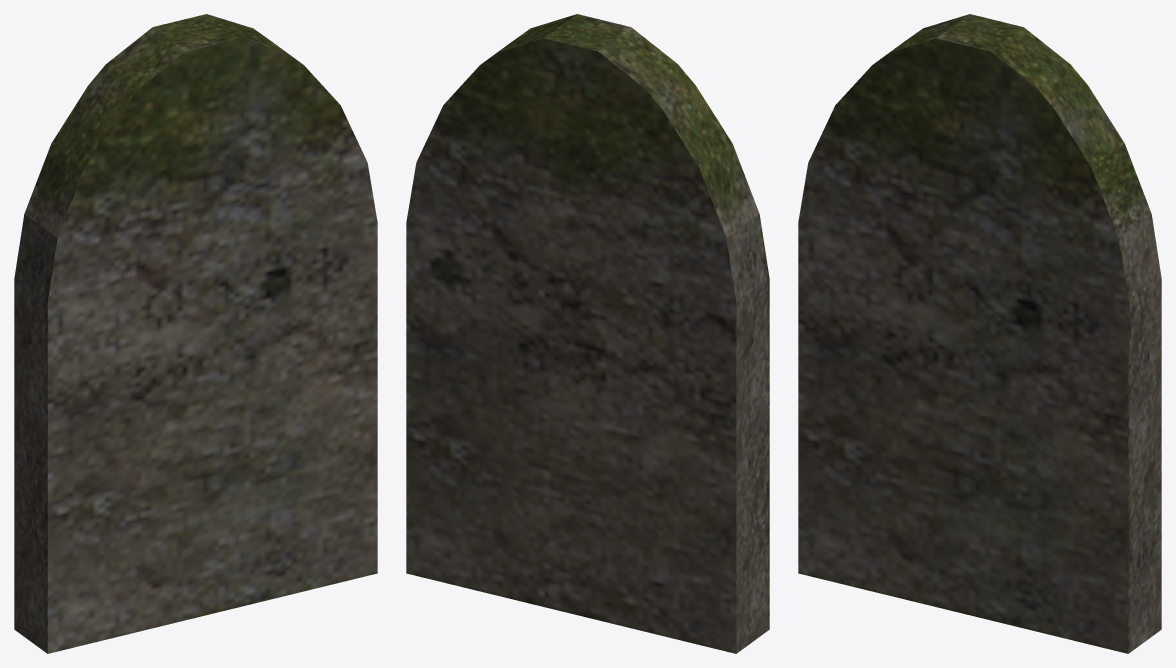
Rendered from Gravestone.fbx.
3 renders of one model, left to right at view 1: azimuth 30°, elevation 25°; view 2: azimuth 150°, elevation 25°; view 3: azimuth 330°, elevation 25°, orthographic.
Parts seen in each view (by area): view 1: GraveHeadstone; view 2: GraveHeadstone; view 3: GraveHeadstone.
Boxes of the visible parts, x1,y1,x2,y2 form: GraveHeadstone: [14, 14, 377, 653]; GraveHeadstone: [406, 14, 769, 653]; GraveHeadstone: [798, 14, 1161, 653].
Bounding box in the file's own units: 371 × 611 × 64.72.
